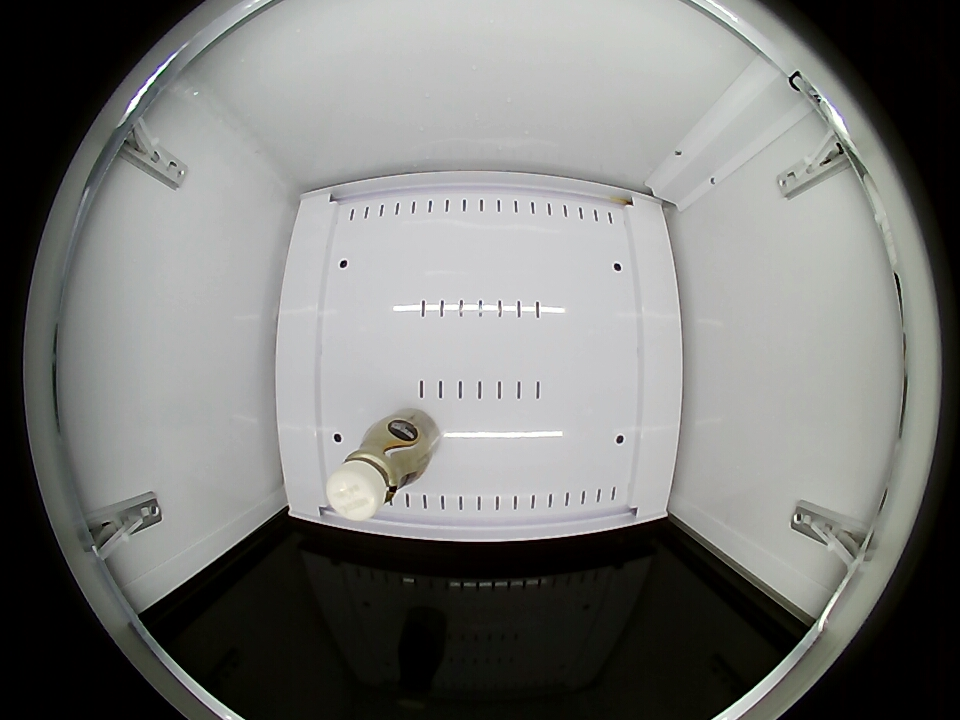kafei: (327, 424, 423, 519)
